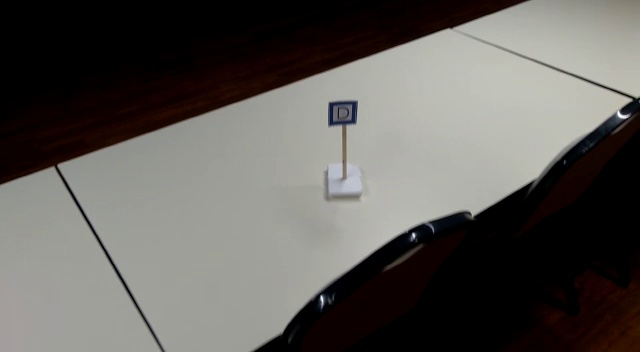durak: (328, 100, 357, 130)
